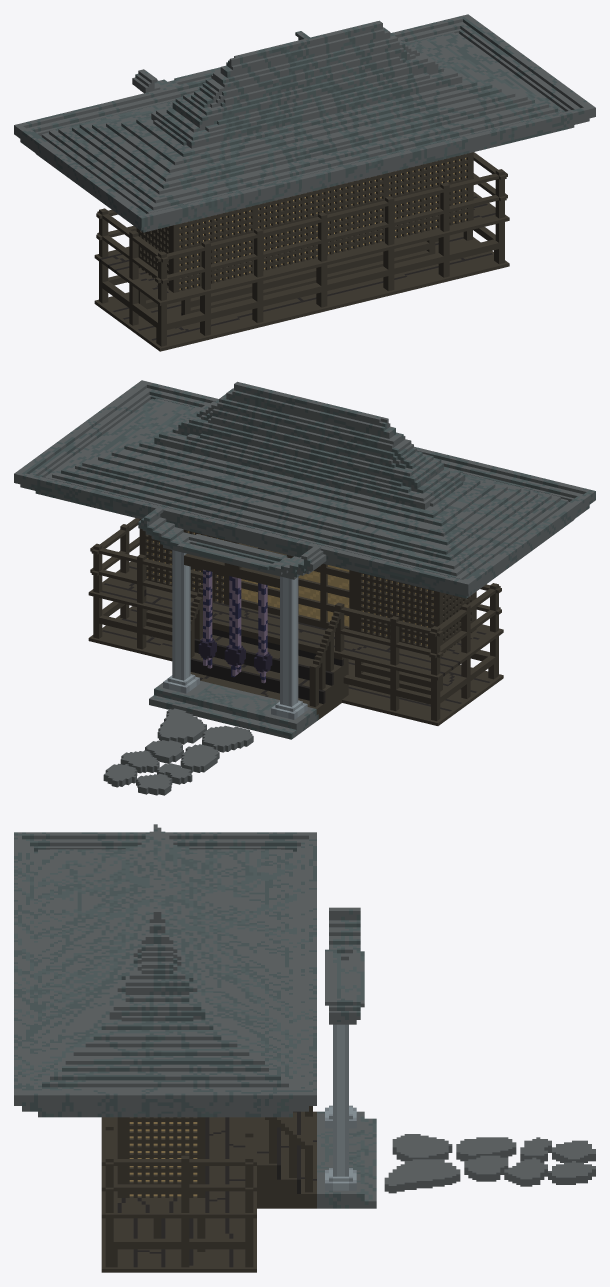
Rendered from temple.obj.
3 renders of one model, top to bottom at view 1: azimuth 30°, elevation 25°; view 2: azimuth 150°, elevation 25°; view 3: azimuth 270°, elevation 25°, orthographic. The views are drawn at different scales.
Size of the model in its own units: 15.6 by 8.3 by 14.6.
Materials: 1 (1 with a texture image).
